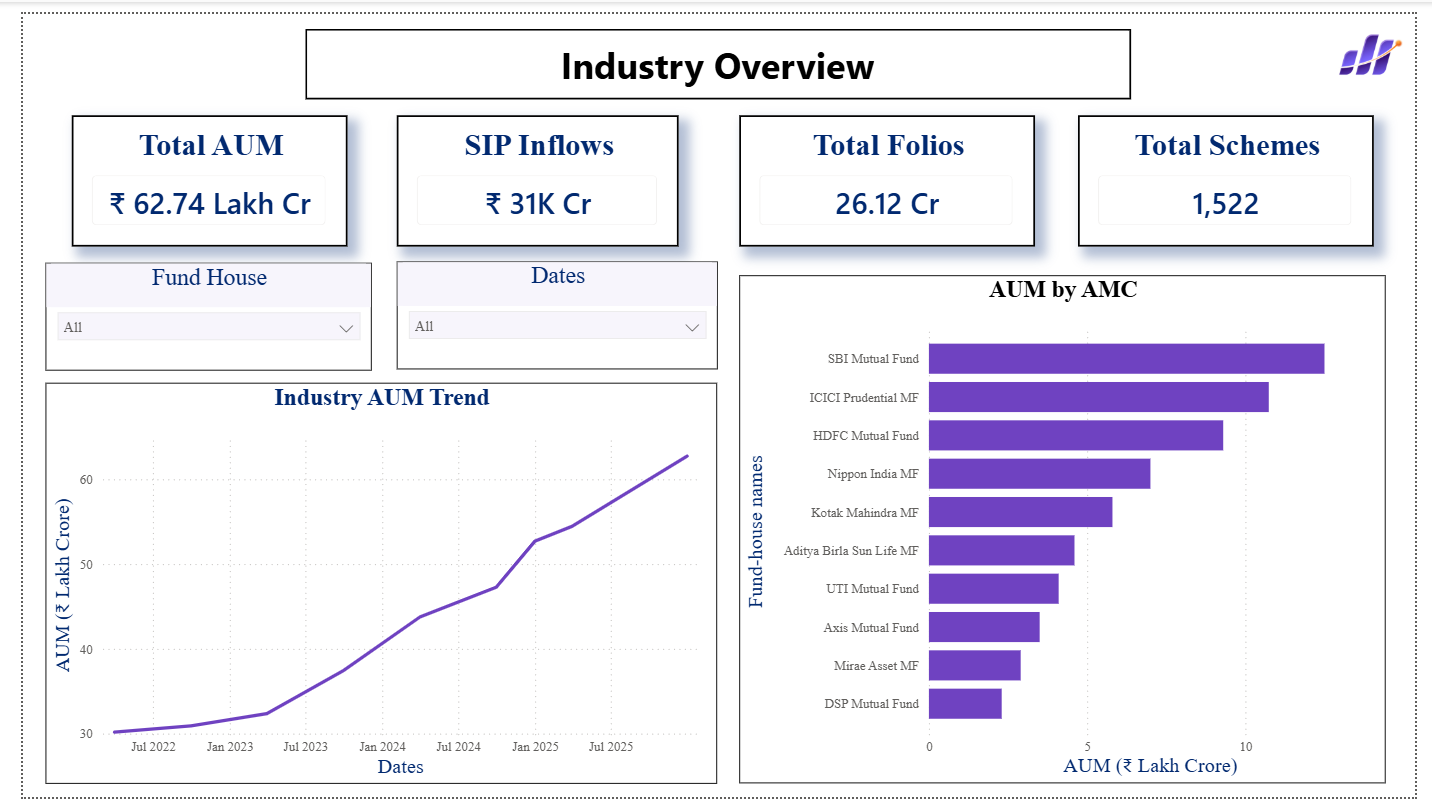

The dashboard page shown, as its layout file describes it:
{"tool":"powerbi","page":{"name":" Industry Overview","canvas":[1280,720],"ordinal":0},"visuals":[{"type":"cardVisual","title":"Total AUM","fields":{"Data":["03_aum_by_fund_house.Total AUM"]},"box":[45.3,93,253.5,120.9],"z":0},{"type":"cardVisual","title":"SIP Inflows","fields":{"Data":["04_monthly_sip_inflows.SIP Inflows"]},"box":[344.2,93,259.3,120.9],"z":1000},{"type":"cardVisual","title":"Total Folios","fields":{"Data":["06_industry_folio_count.Total Folios"]},"box":[658.7,93.3,271.7,120.8],"z":2000},{"type":"cardVisual","title":"Total Schemes","fields":{"Data":["03_aum_by_fund_house.Total Schemes"]},"box":[970.2,93.3,271.7,120.8],"z":3000},{"type":"lineChart","title":"Industry AUM Trend","fields":{"Category":["03_aum_by_fund_house.date"],"Y":["Sum(03_aum_by_fund_house.aum_lakh_crore)"]},"box":[20.9,339.5,617.4,368.6],"z":4000},{"type":"clusteredBarChart","title":"AUM by AMC","fields":{"Category":["03_aum_by_fund_house.fund_house"],"Y":["Sum(03_aum_by_fund_house.aum_lakh_crore)"]},"box":[658.1,240.7,594.2,467.4],"z":5000},{"type":"shape","box":[259.3,13.7,758.8,64.5],"z":6000},{"type":"image","box":[1197.9,0,82.3,75.5],"z":7000},{"type":"slicer","title":"Fund House","fields":{"Values":["03_aum_by_fund_house.fund_house"]},"box":[20.9,229.1,300,98.8],"z":8000},{"type":"slicer","title":"Dates","fields":{"Values":["03_aum_by_fund_house.date"]},"box":[344.2,227.9,295.3,98.8],"z":9000}]}

Visuals, with their boxes in screenshot pixels (x1, y1, x2, y2), scaled from the page's 1280x720 canvas onto the 1432x807 screenshot:
"Total AUM" cardVisual: 51, 104, 334, 240
"SIP Inflows" cardVisual: 385, 104, 675, 240
"Total Folios" cardVisual: 737, 105, 1041, 240
"Total Schemes" cardVisual: 1085, 105, 1389, 240
"Industry AUM Trend" lineChart: 23, 381, 714, 794
"AUM by AMC" clusteredBarChart: 736, 270, 1401, 794
shape: 290, 15, 1139, 88
image: 1340, 0, 1431, 85
"Fund House" slicer: 23, 257, 359, 368
"Dates" slicer: 385, 255, 715, 366
